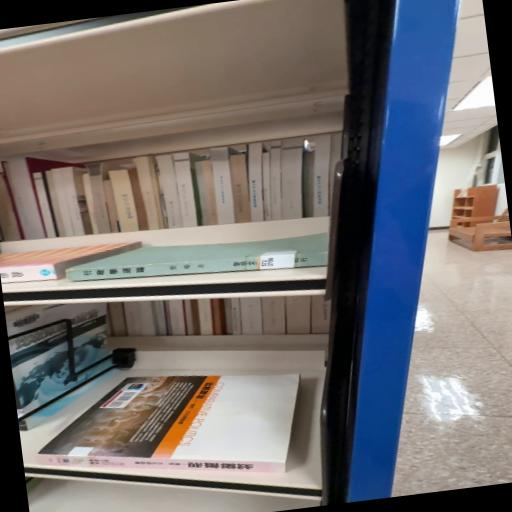flat: (38, 374, 300, 475), (66, 233, 328, 281)
